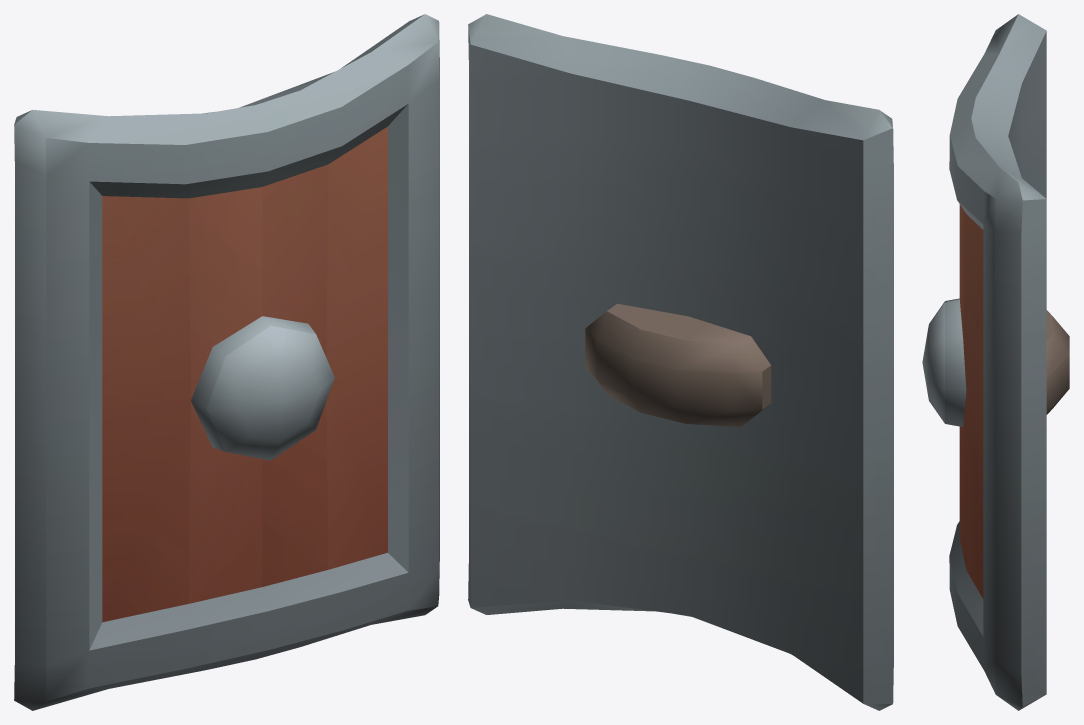
Rendered from kaykit-shield-square.glb.
3 renders of one model, left to right at view 1: azimuth 30°, elevation 25°; view 2: azimuth 150°, elevation 25°; view 3: azimuth 270°, elevation 25°, orthographic. The views are drawn at different scales.
Parts seen in each view (by area): view 1: shield_square; view 2: shield_square; view 3: shield_square.
Boxes of the visible parts, x1,y1,x2,y2 form: shield_square: (14, 14, 439, 710); shield_square: (468, 14, 893, 710); shield_square: (922, 14, 1069, 710).
Bounding box in the file's own units: 0.8825 × 1.19 × 0.301.
1 material, 1 textured.
